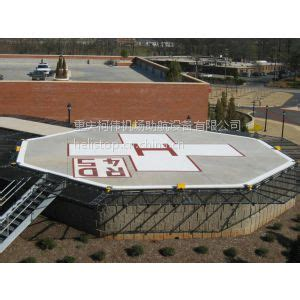H: (133, 144, 179, 156)
